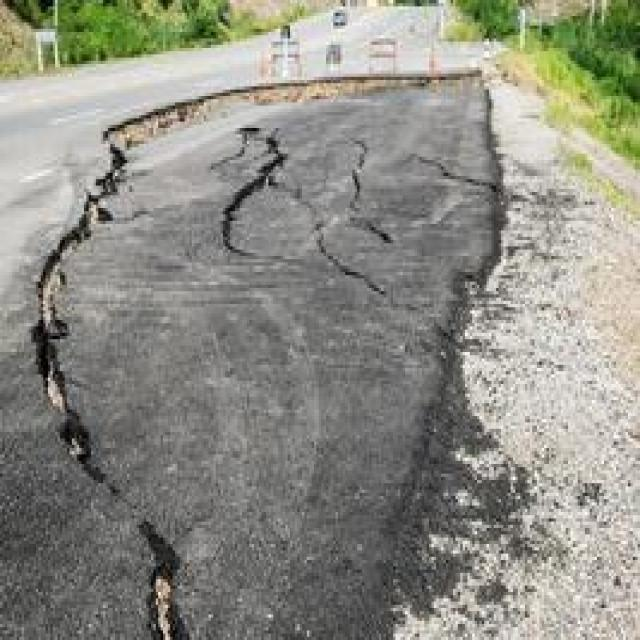road collapse: (31, 32, 640, 637)
